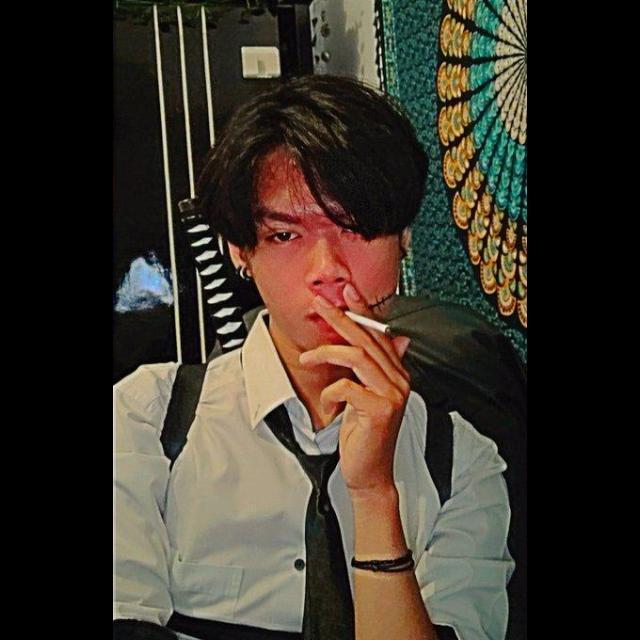rokok: (342, 308, 394, 336)
